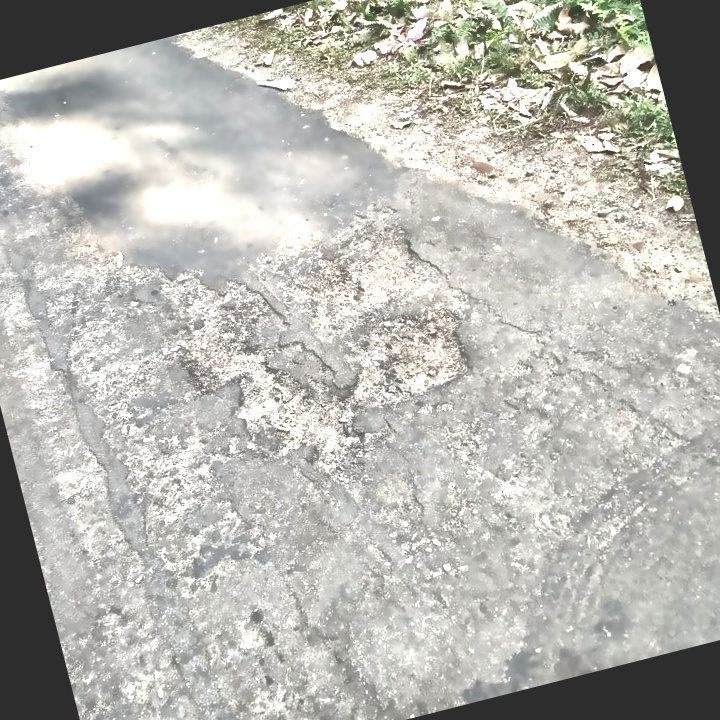pothole: (146, 196, 510, 507)
